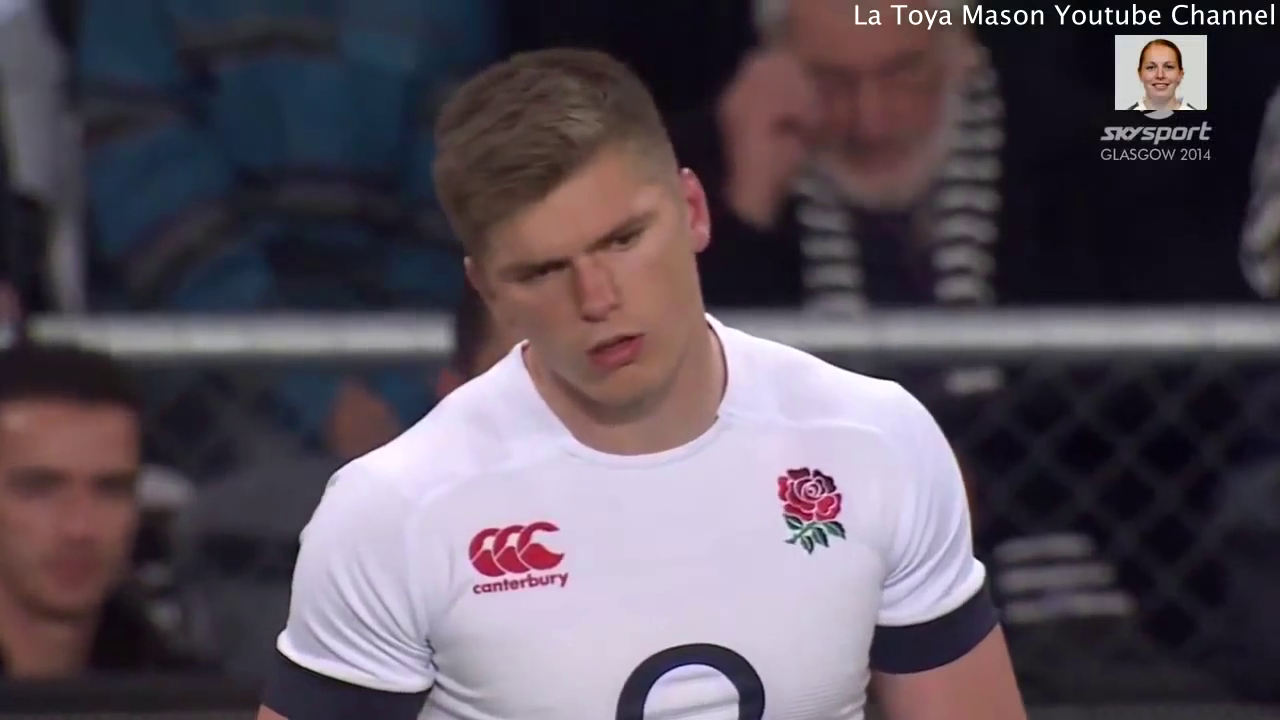player: (239, 51, 1044, 720)
